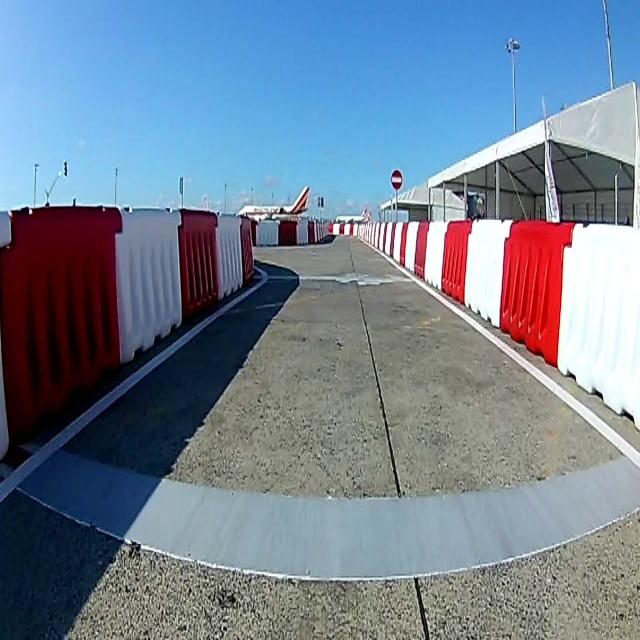girisyok: (391, 168, 403, 190)
